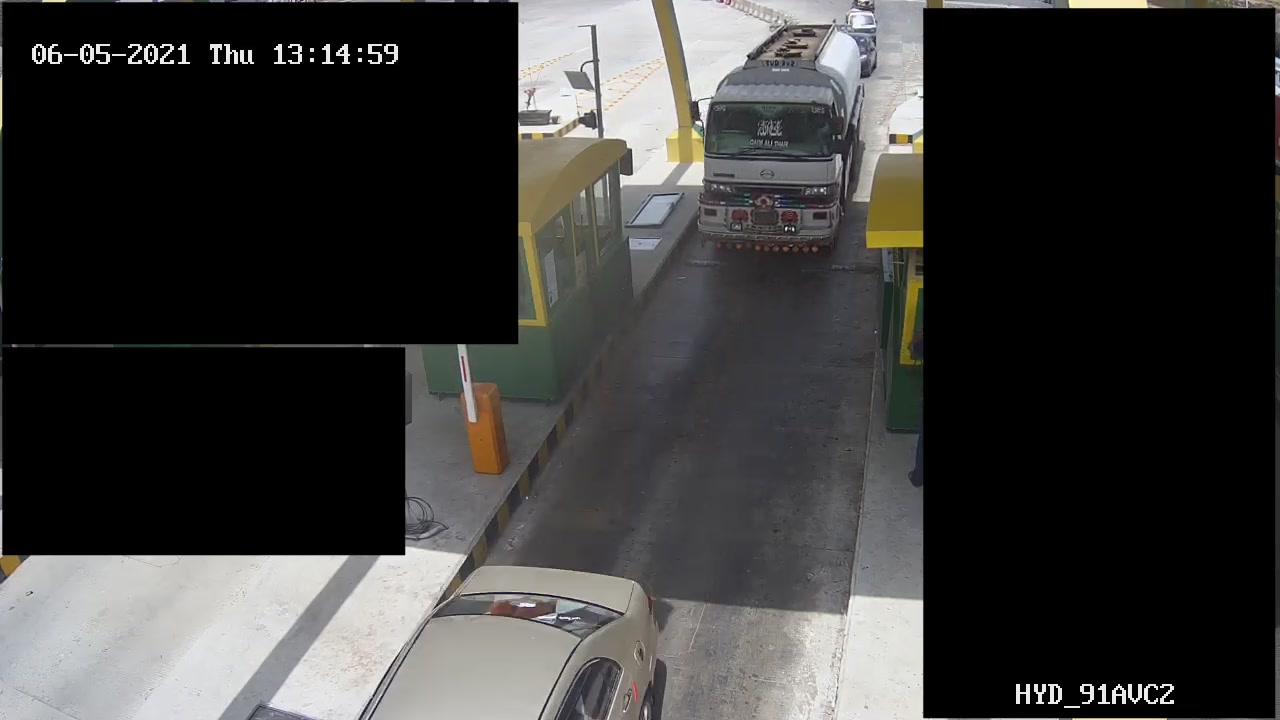F6: (694, 22, 867, 262)
